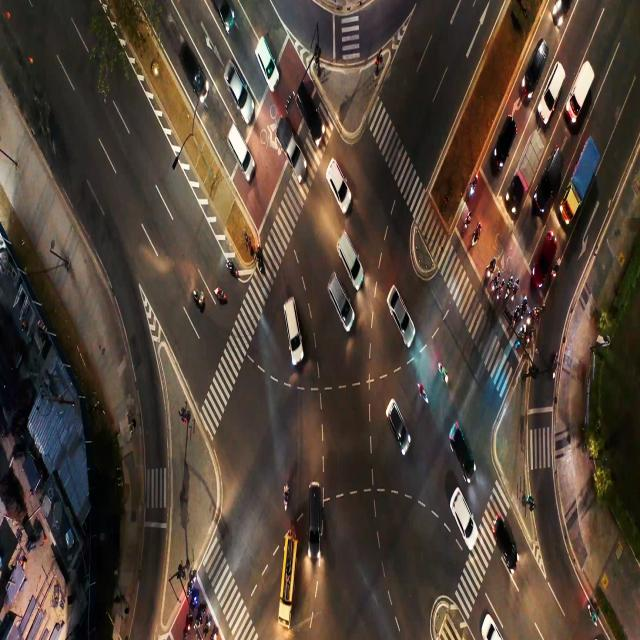bus: (282, 533, 296, 621)
car: (588, 588, 600, 636), (194, 285, 208, 315), (215, 280, 225, 313), (418, 386, 432, 407), (280, 485, 293, 506), (439, 360, 448, 388), (468, 173, 478, 197), (474, 220, 481, 252), (512, 278, 520, 306), (486, 255, 496, 277), (492, 271, 501, 294), (527, 325, 536, 347), (463, 209, 472, 230), (498, 278, 506, 296), (230, 262, 239, 278), (514, 305, 520, 328), (520, 297, 526, 318), (519, 322, 524, 346), (200, 606, 207, 622), (529, 310, 539, 321), (184, 625, 193, 635), (213, 626, 219, 640), (208, 617, 213, 632), (190, 576, 195, 590), (508, 277, 512, 293), (193, 594, 196, 608)
other: (572, 135, 598, 222), (572, 64, 588, 118), (521, 142, 533, 192)
truck: (387, 282, 416, 344), (304, 482, 325, 549), (528, 31, 546, 101), (386, 408, 411, 451), (495, 111, 511, 176), (547, 61, 565, 114), (455, 431, 475, 477), (453, 501, 475, 542), (494, 523, 518, 558), (281, 127, 301, 168), (333, 278, 348, 332), (342, 242, 361, 284), (540, 236, 556, 285), (286, 304, 300, 358), (304, 93, 320, 137), (330, 162, 346, 203), (231, 71, 247, 110), (188, 54, 205, 90), (230, 134, 248, 164), (262, 51, 278, 83), (549, 154, 562, 189)
